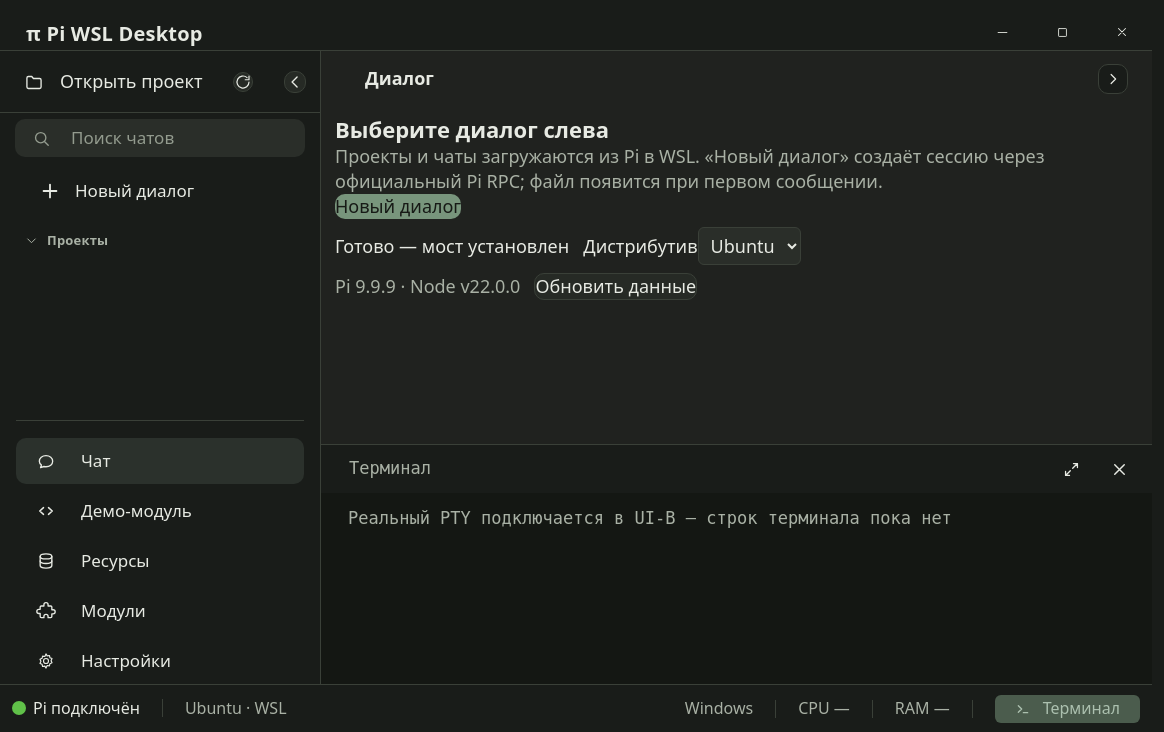
Scenario: M3 module registration UI › renders the demo module tab through the generic contract and shows its state
Click the button with test id "tab-module-demo/welcome": [160, 511] box [16,488,304,534]
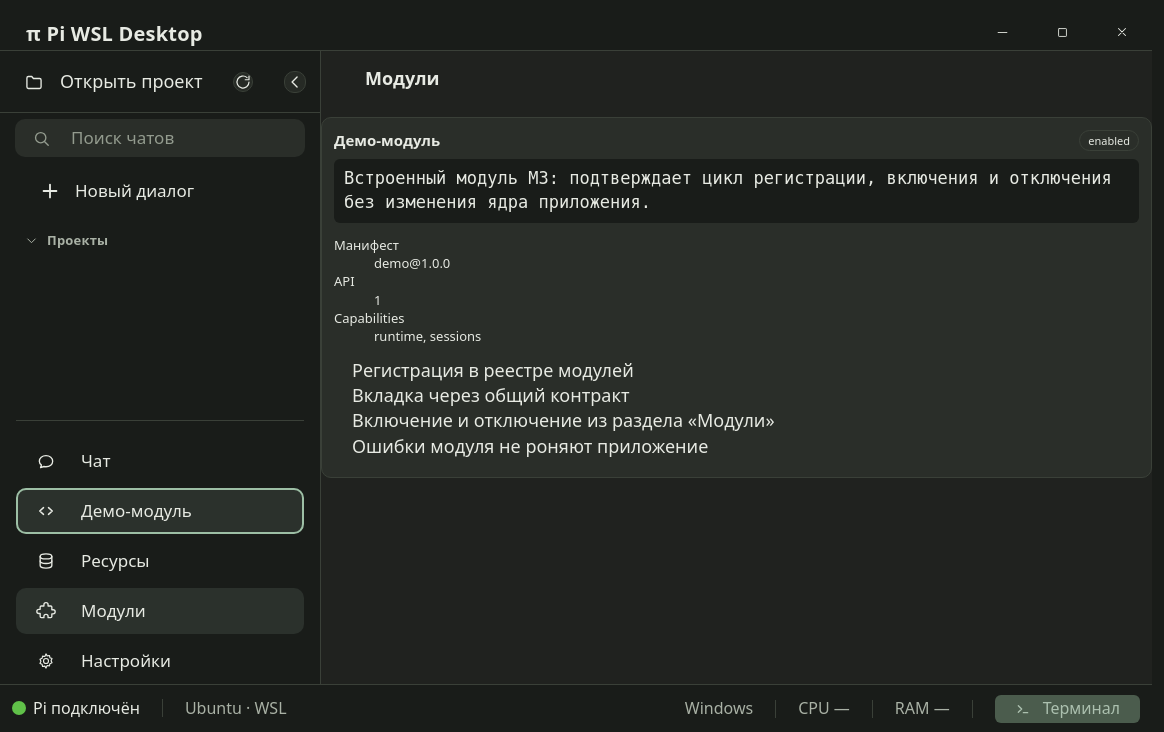
Check: the element with test id "module-tab-demo" is shown, box [321,117,1152,478]
Check: the text with test id "module-state-demo" reads "enabled", box [1088,133,1130,148]
Check: the text "demo@1.0.0" is shown, box [374,254,450,272]
